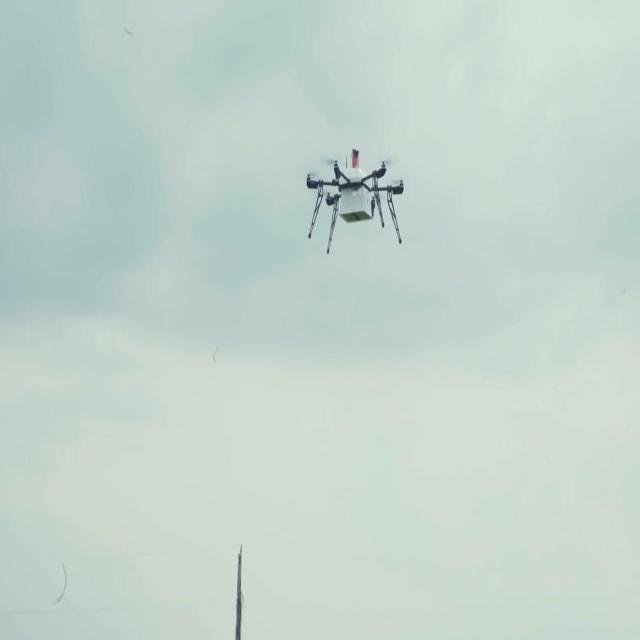drone: (305, 146, 407, 249)
